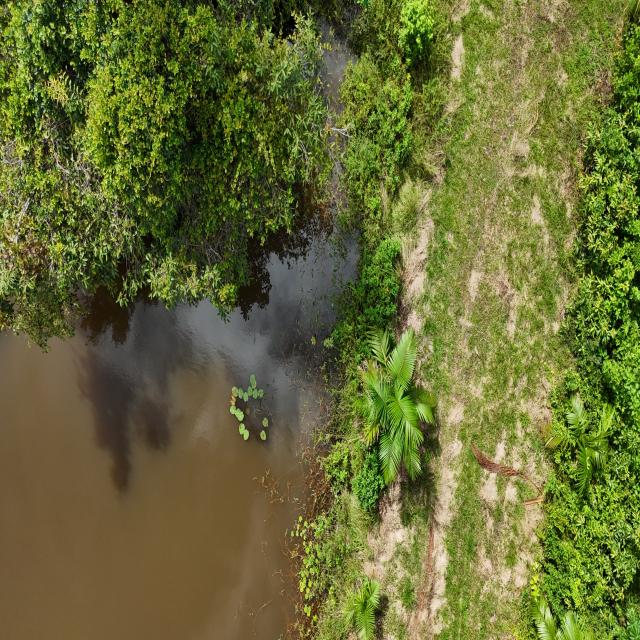vegetation: (1, 0, 337, 352), (529, 5, 639, 637), (354, 324, 437, 488)
